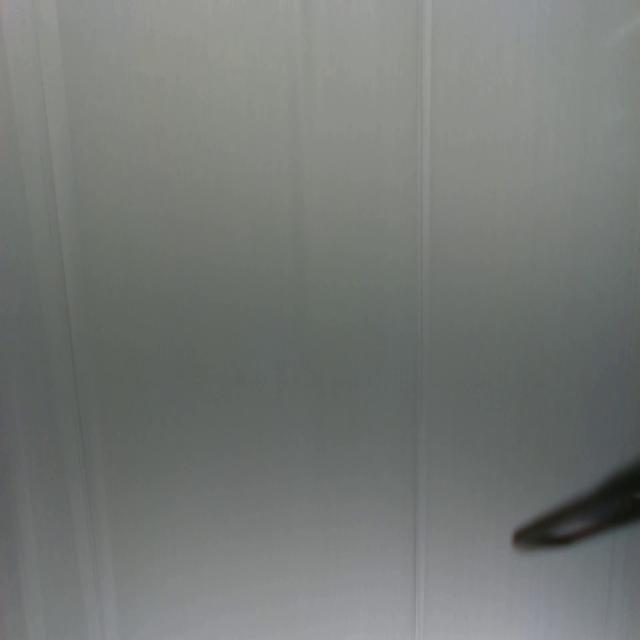crease: (2, 2, 117, 640), (410, 0, 435, 639)
